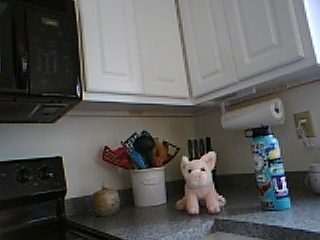piggy: (173, 149, 228, 216)
